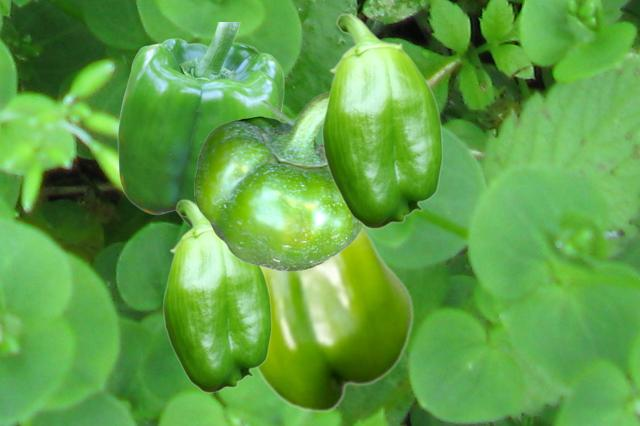bell_pepper: (117, 22, 283, 224), (194, 91, 363, 270), (254, 228, 413, 412), (321, 13, 442, 228), (162, 199, 271, 392)
